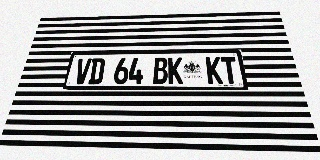4: (128, 58, 144, 84)
6: (113, 58, 130, 84)
B: (153, 57, 168, 84)
D: (88, 58, 106, 84)
K: (205, 57, 223, 84), (168, 57, 183, 84)
T: (220, 57, 239, 84)
V: (73, 58, 92, 84)
